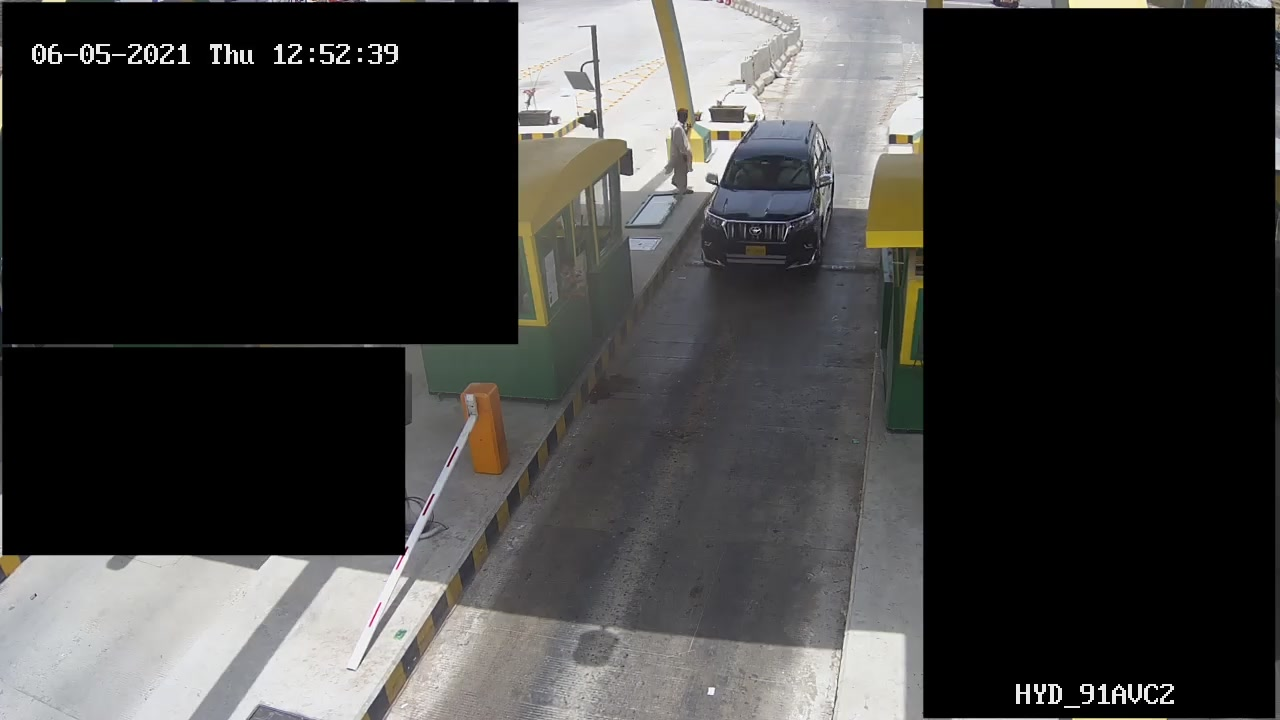F1: (697, 110, 841, 276)
